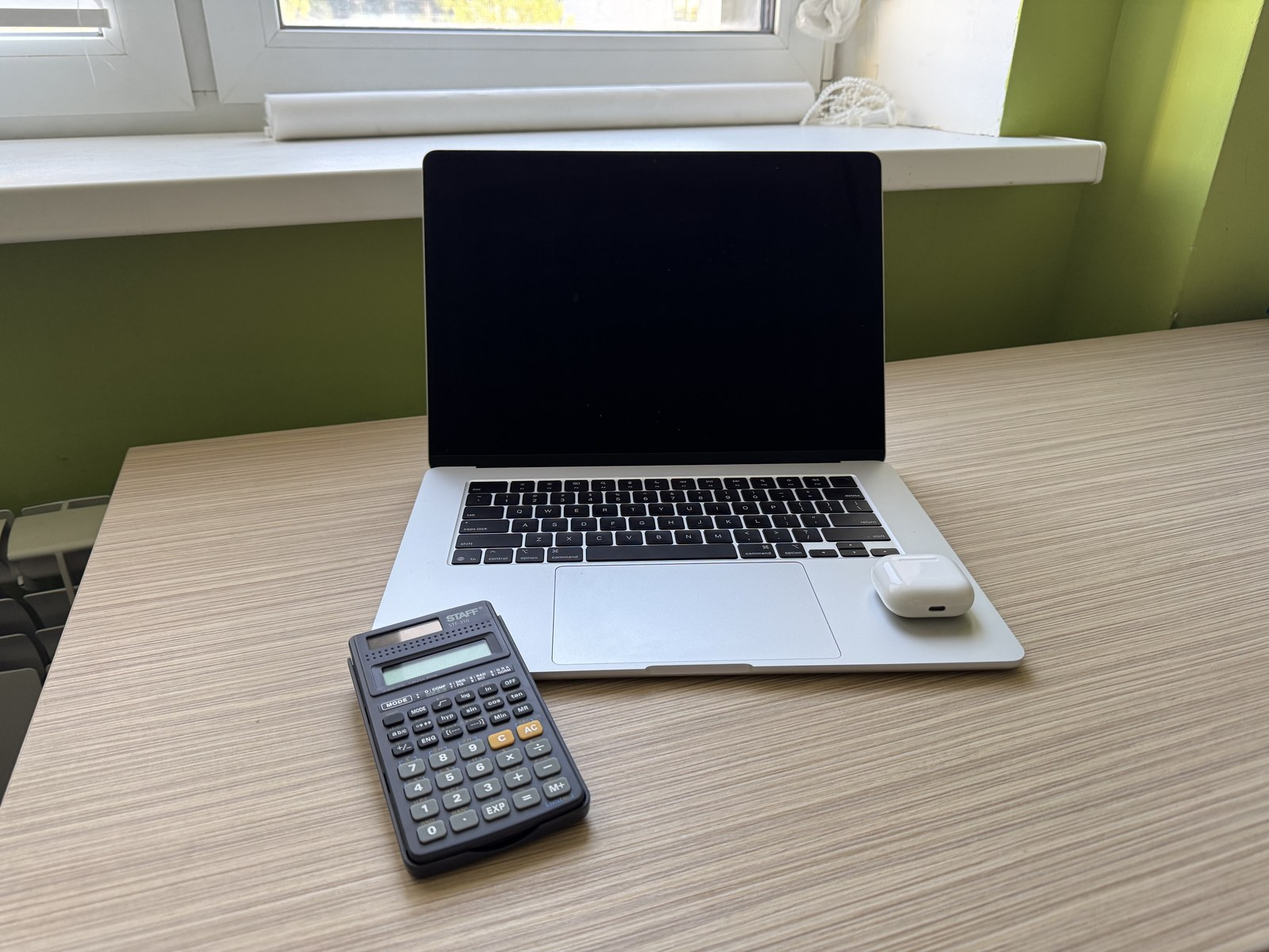laptop: (370, 149, 1025, 678)
